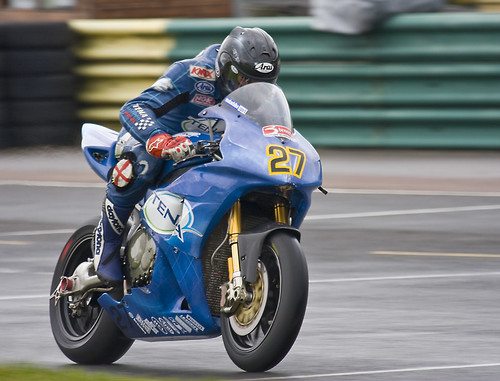helmet: (214, 20, 280, 89)
